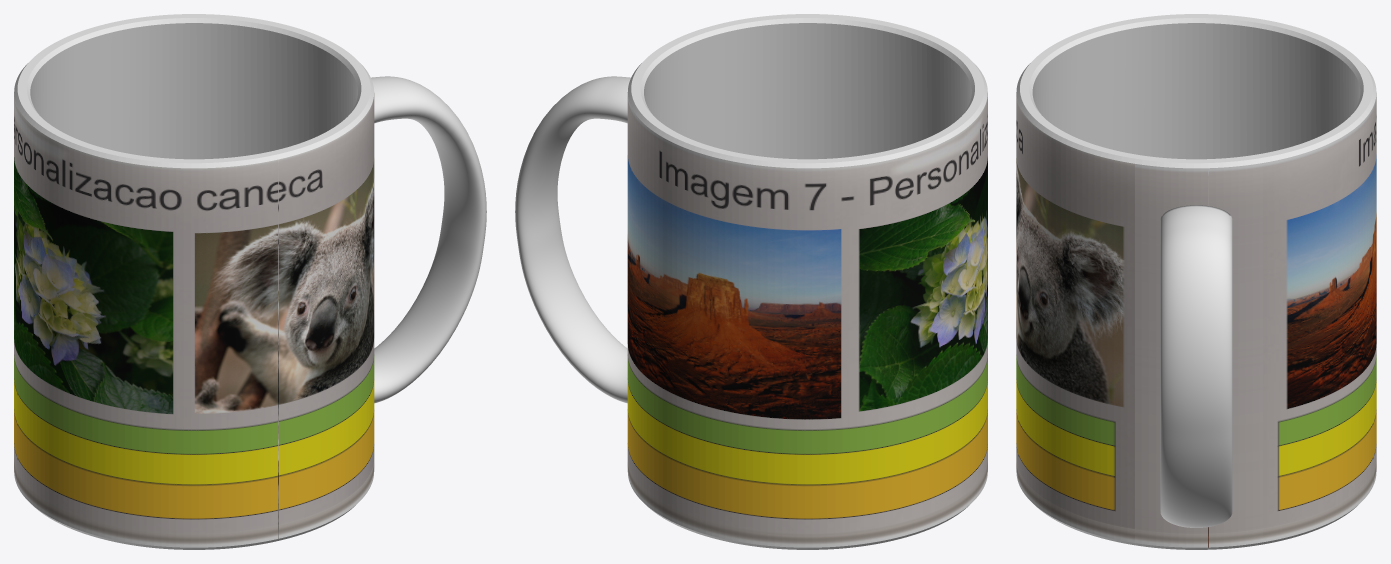
File: caneca.gltf
3 renders of one model, left to right at view 1: azimuth 30°, elevation 25°; view 2: azimuth 150°, elevation 25°; view 3: azimuth 270°, elevation 25°, orthographic.
Parts seen in each view (by area): view 1: Cylinder, NurbsCircle; view 2: Cylinder, NurbsCircle; view 3: Cylinder, NurbsCircle.
Boxes of the visible parts, <box> form: Cylinder: <box>14,14,374,549</box>; NurbsCircle: <box>371,76,486,403</box>; Cylinder: <box>627,14,987,549</box>; NurbsCircle: <box>515,76,630,403</box>; Cylinder: <box>1016,14,1376,549</box>; NurbsCircle: <box>1160,205,1232,527</box>.
Bounding box in the file's own units: 2.81 × 2.37 × 2.
3 materials, 1 textured.
